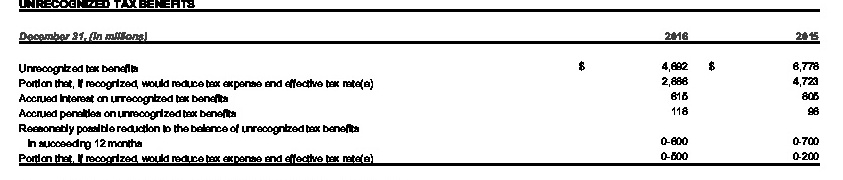table: (0, 0, 843, 180)
